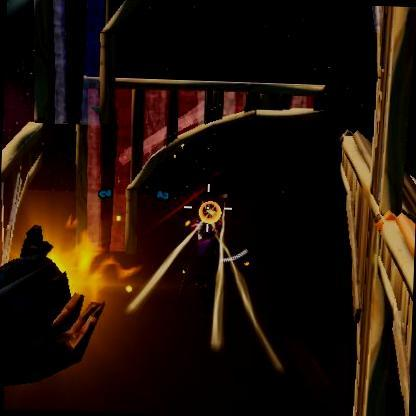person: (176, 201, 223, 316)
